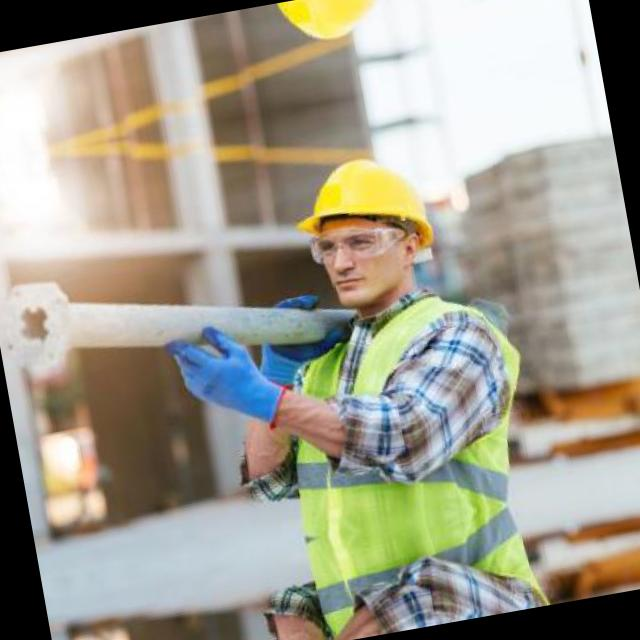helmet: (291, 139, 449, 324), (262, 0, 402, 58)
